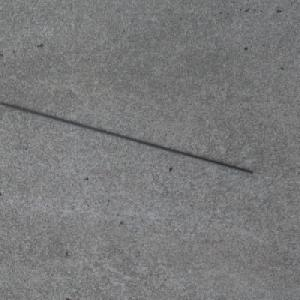LuggagePart: (0, 102, 254, 174)
